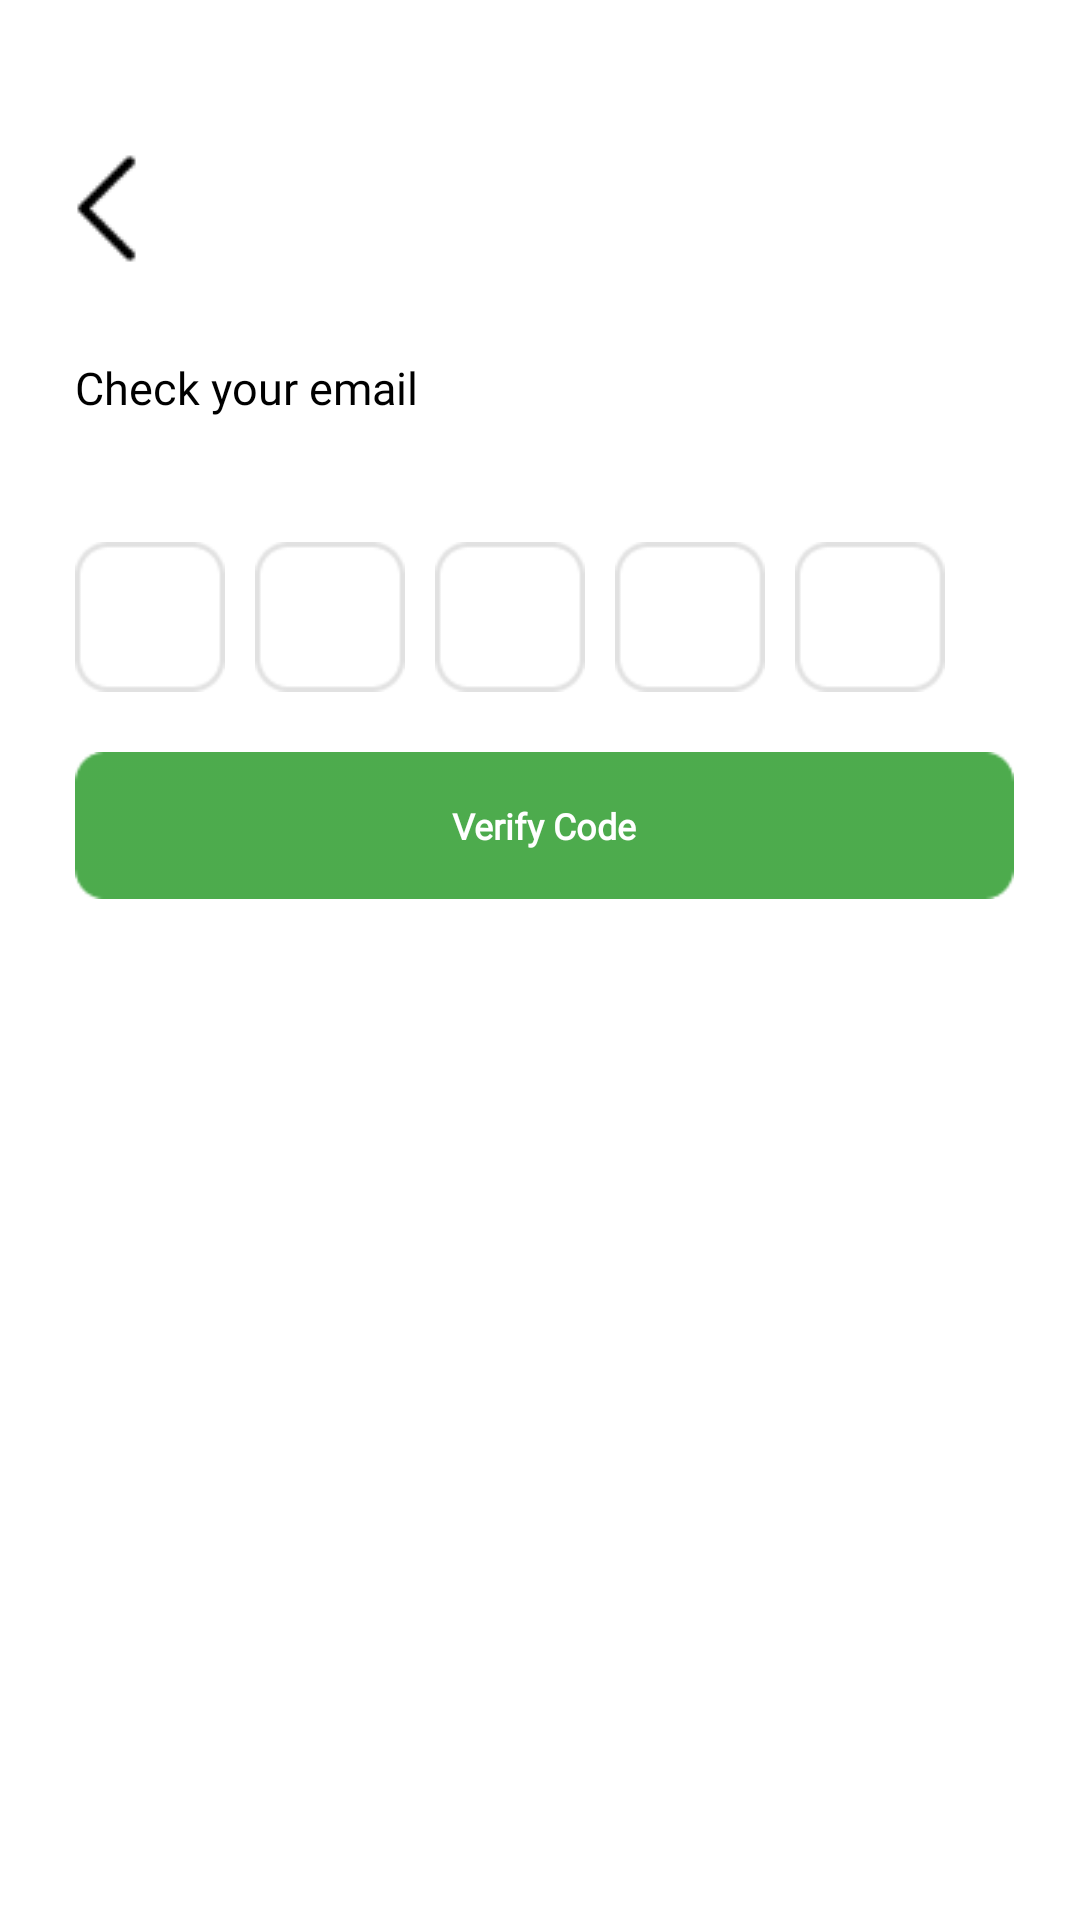

Point at icon controls on the screen. Image size 1080x1920, points as [x,y].
back: [106,208]
